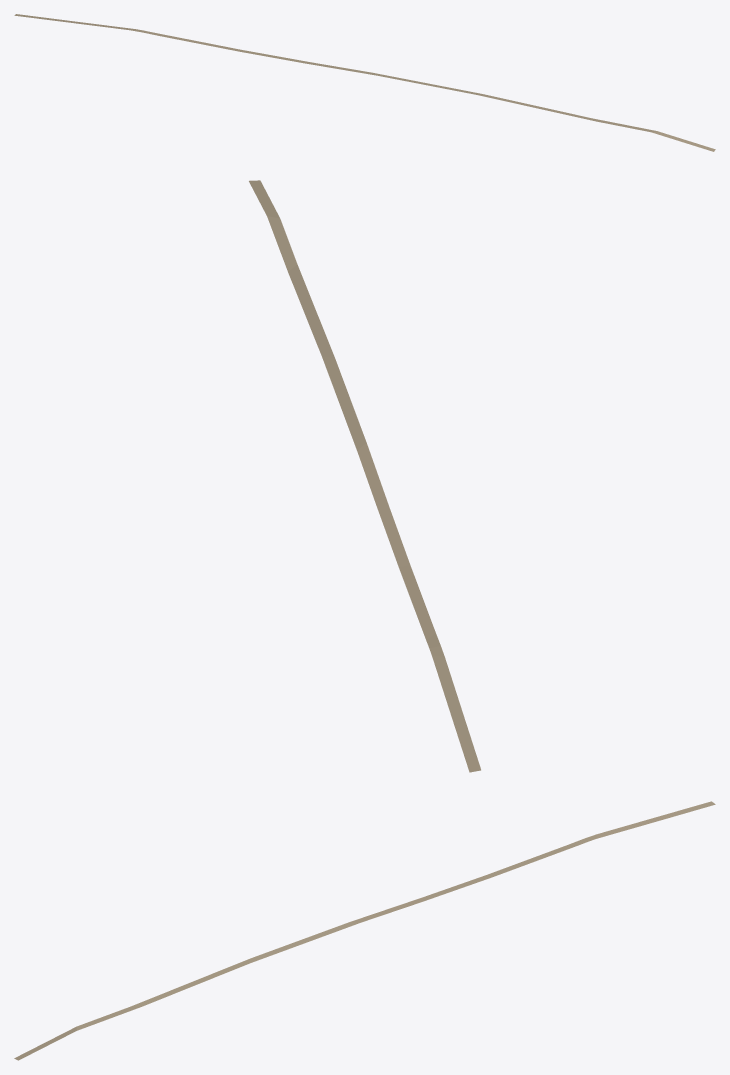
The model's file is farm_13_1_track.glb.
The picture shows the model from 3 angles, top to bottom: view 1: azimuth 30°, elevation 25°; view 2: azimuth 150°, elevation 25°; view 3: azimuth 270°, elevation 25°; orthographic projection. The views are drawn at different scales.
Visible parts, largest first — view 1: geometry_0; view 2: geometry_0; view 3: geometry_0.
Boxes of the visible parts, box(x1,y1,x2,y2) form: geometry_0: box(14, 14, 715, 151); geometry_0: box(249, 180, 480, 772); geometry_0: box(14, 801, 715, 1060).
Size of the model in its own units: 258 by 14.6 by 324.
